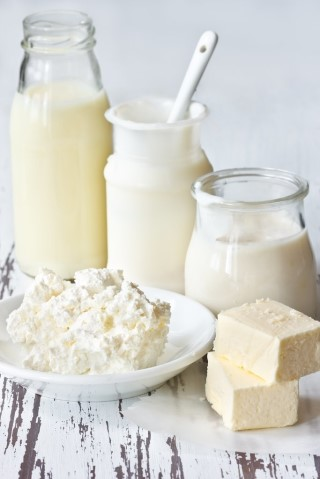glass of milk: (203, 181, 298, 292)
